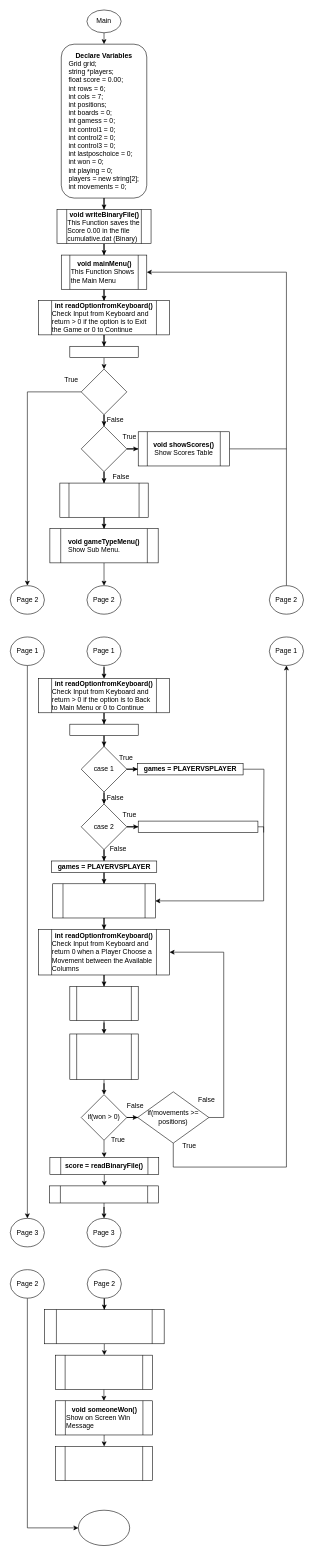
Image size: 314x1556. Some labels were removed from this diagram. The centre of each missing label's shape, as x and y in pixels:
"case 6" belongs at point (104, 449).
"case 7" belongs at point (104, 392).
"games = PLAYERVSCOMPUTER" belongs at point (198, 826).
"Grid createGrid( ) Create the Customize Grid." belongs at point (103, 500).
"int gameLogic() Check if the movement is Valid" belongs at point (103, 1003).
"int winLogic() Check if someone won with the Last Movement" belongs at point (103, 1056).
"return 0 Exit from Main" belongs at point (104, 1528).
"score = score + 30.25" belongs at point (103, 1194).
"string *playerName Define Player Names" belongs at point (103, 900).
"switch(boards)" belongs at point (103, 352).
"switch(gamess)" belongs at point (103, 730).
"void printGrid() Print the Grid on screen" belongs at point (103, 1372).
"void showScores() Show the Current Max Scores Table in the Screen" belongs at point (103, 1463).
"void writeBinaryFile(score) Save the cumulative score in the Binary File" belongs at point (104, 1326).
